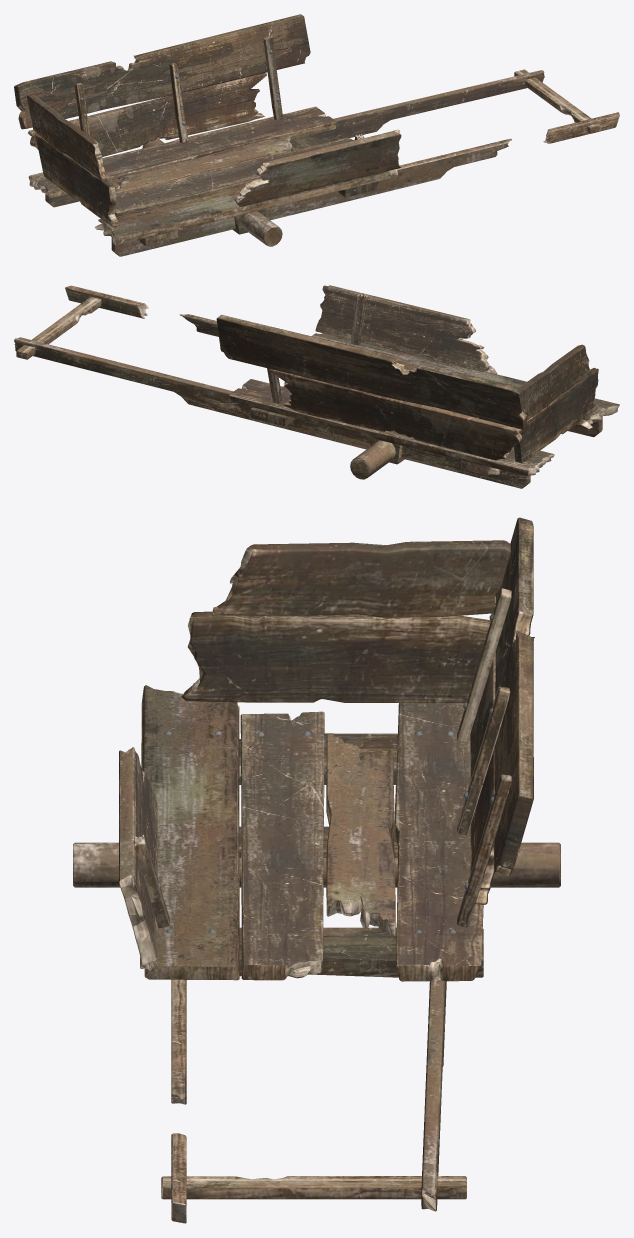
3 views of the same model, one above another, from view 1: azimuth 30°, elevation 25°; view 2: azimuth 150°, elevation 25°; view 3: azimuth 270°, elevation 25° (orthographic). The views are drawn at different scales.
Parts seen in each view (by area): view 1: SM_Village_Cart_v2_LOD0; view 2: SM_Village_Cart_v2_LOD0; view 3: SM_Village_Cart_v2_LOD0.
Boxes of the visible parts, left/top/right/bottom form: SM_Village_Cart_v2_LOD0: left=14, top=14, right=619, bottom=256; SM_Village_Cart_v2_LOD0: left=14, top=285, right=619, bottom=488; SM_Village_Cart_v2_LOD0: left=73, top=517, right=560, bottom=1223.
Size of the model in its own units: 4.06 by 0.8772 by 1.65.
Materials: 1 (1 with a texture image).
